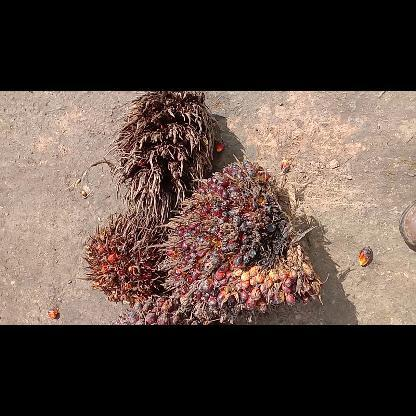Janjang kosong: (90, 92, 222, 222)
Kurang masak: (110, 296, 216, 324)
TBS masak: (148, 156, 328, 324)
Terlalu masak: (78, 207, 168, 306)
